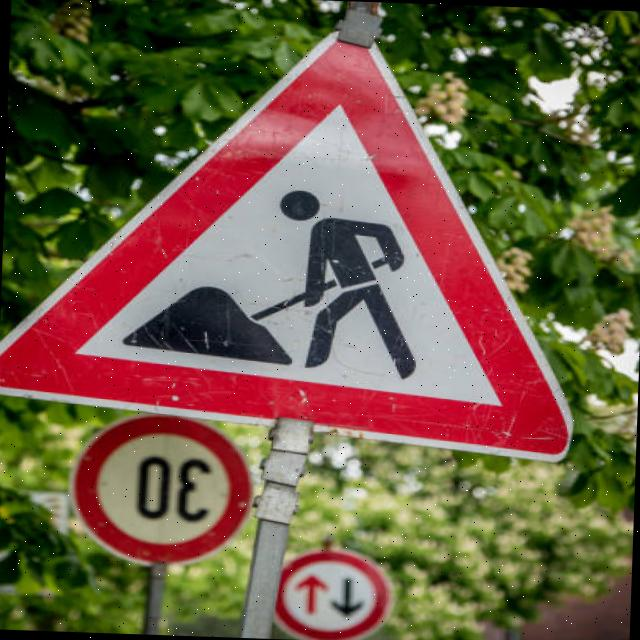road_work: (0, 20, 584, 449)
speed_limit_30: (54, 408, 257, 568)
